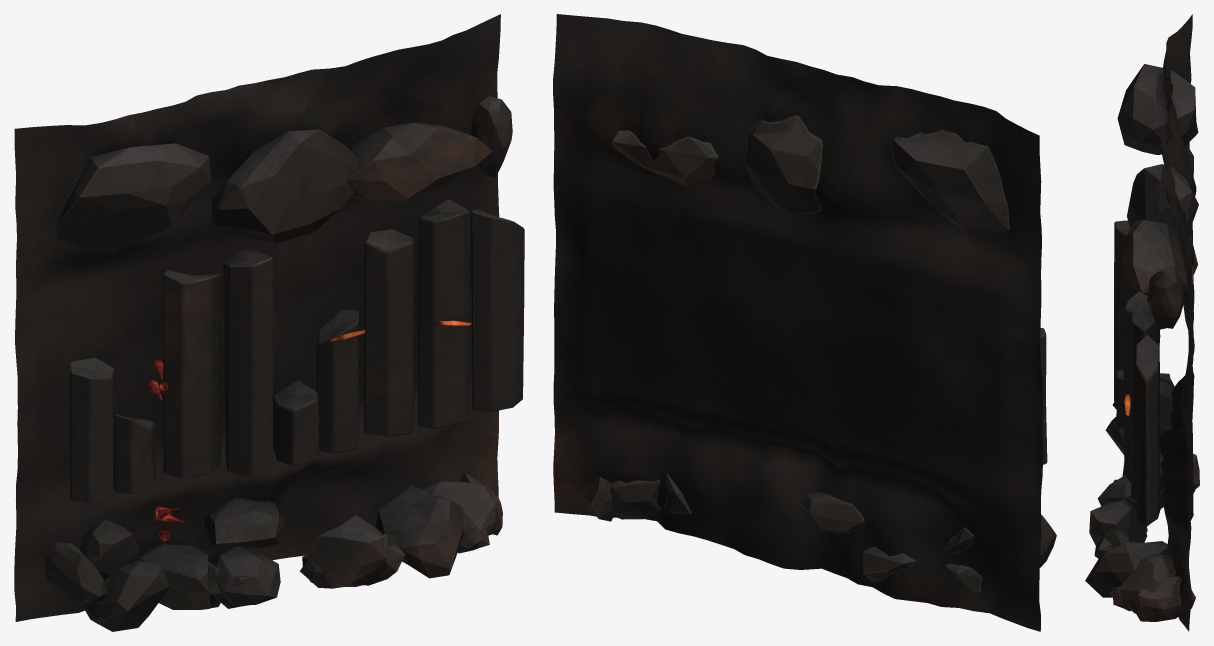
The model's file is b4p_basalt_wall_panel_b.glb.
The picture shows the model from 3 angles, left to right: view 1: azimuth 30°, elevation 25°; view 2: azimuth 150°, elevation 25°; view 3: azimuth 270°, elevation 25°; orthographic projection. The views are drawn at different scales.
Visible parts, largest first — view 1: b4p_basalt_wall_panel_b; view 2: b4p_basalt_wall_panel_b; view 3: b4p_basalt_wall_panel_b.
Part boxes in pixels (x1,y1,x2,y2): b4p_basalt_wall_panel_b: (14,14,524,631); b4p_basalt_wall_panel_b: (553,14,1056,631); b4p_basalt_wall_panel_b: (1085,14,1199,631).
Size of the model in its own units: 4.1 by 4.07 by 0.9964.
1 material, 1 textured.
